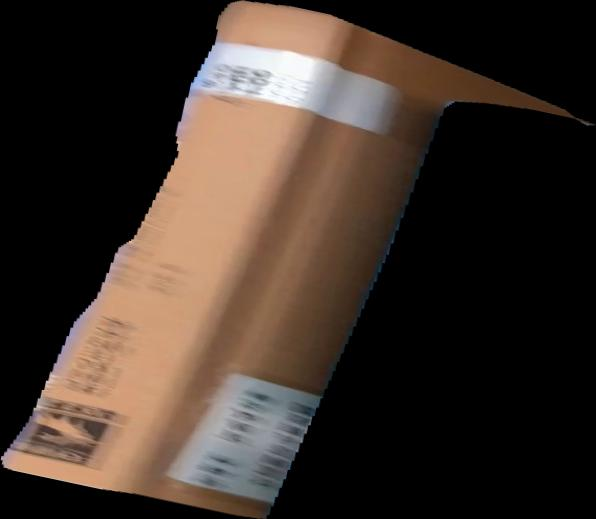reverse: (1, 1, 596, 519)
